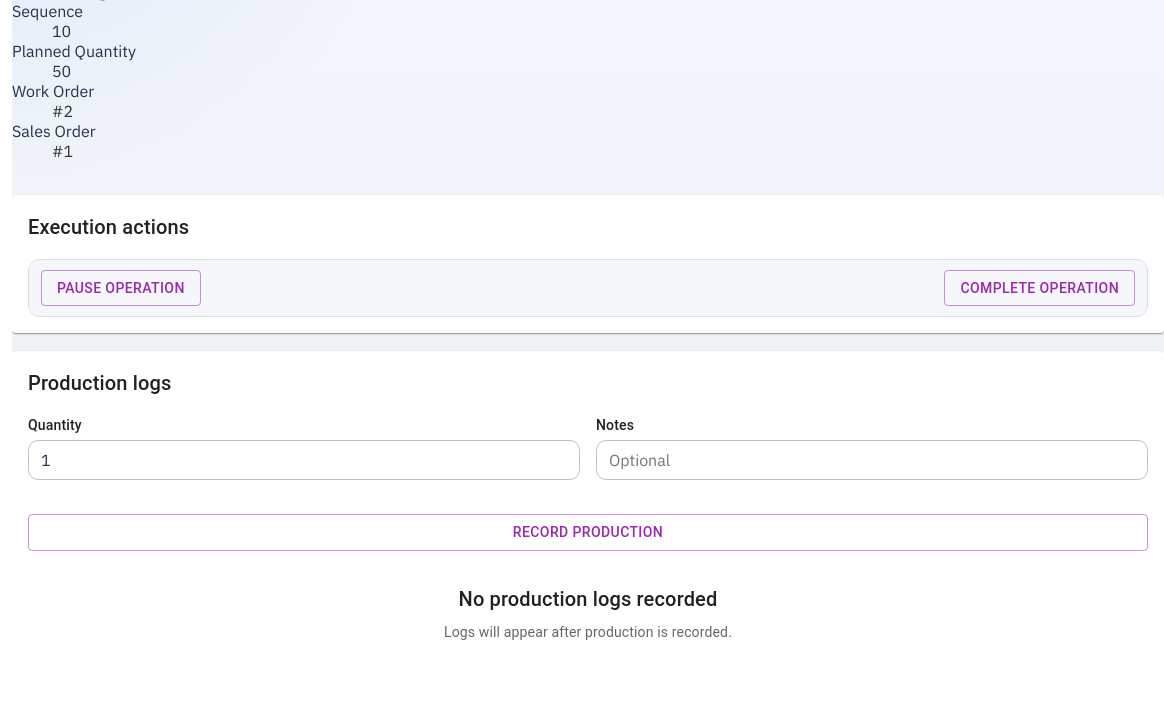
OperatorProductionScreen › submits production log action
The image size is (1164, 703).
(page scrolled)
Replace the text in the number field labelled "Quantity" with "3": (304, 460) [28,440,580,480]
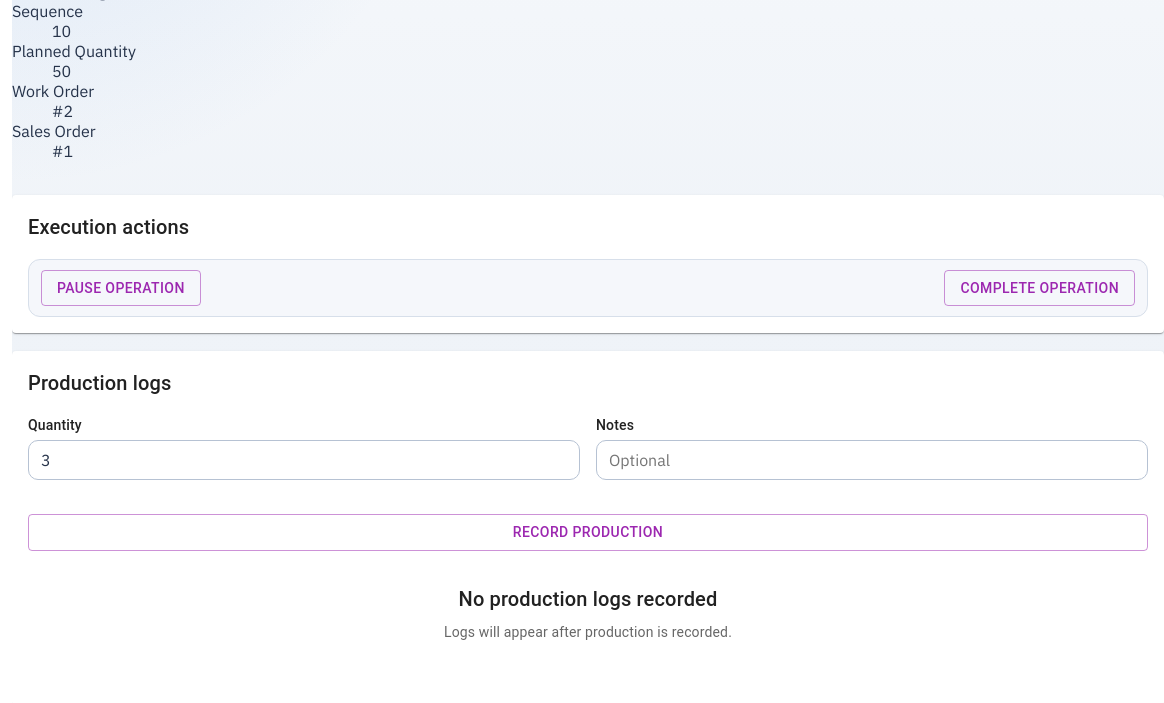
In the field labelled "Notes": (872, 460) [596,440,1148,480], type "First pass"
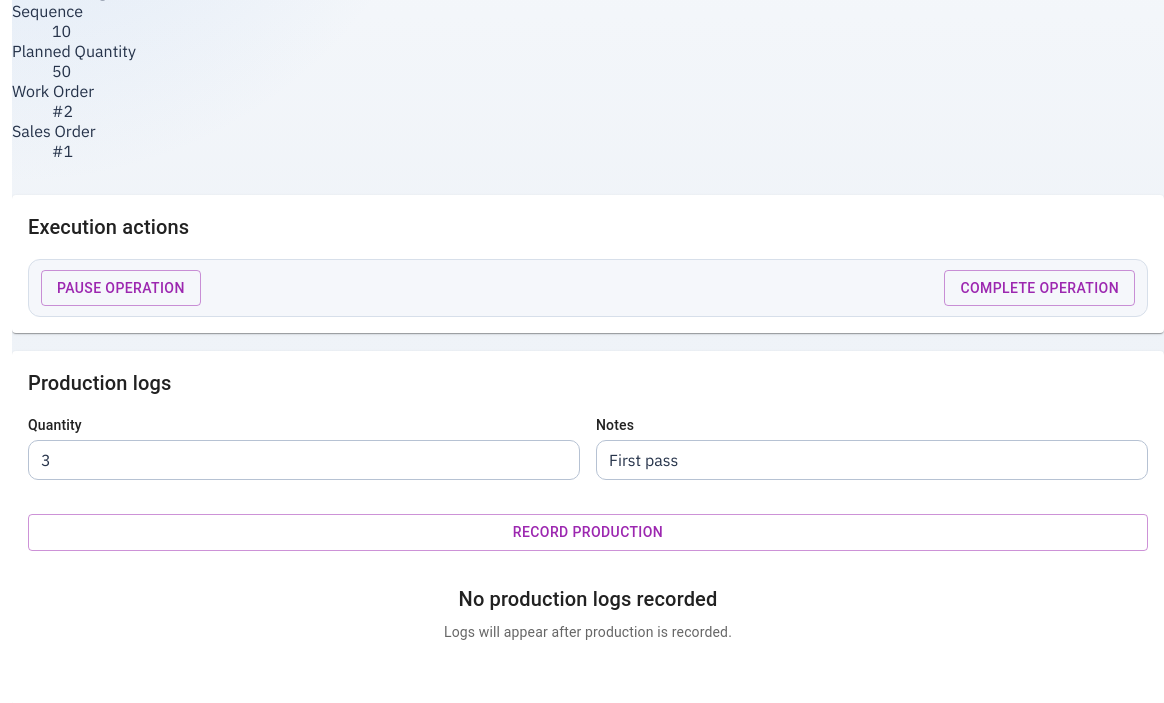
Click the button "Record production": click(588, 533) [28,514,1148,551]
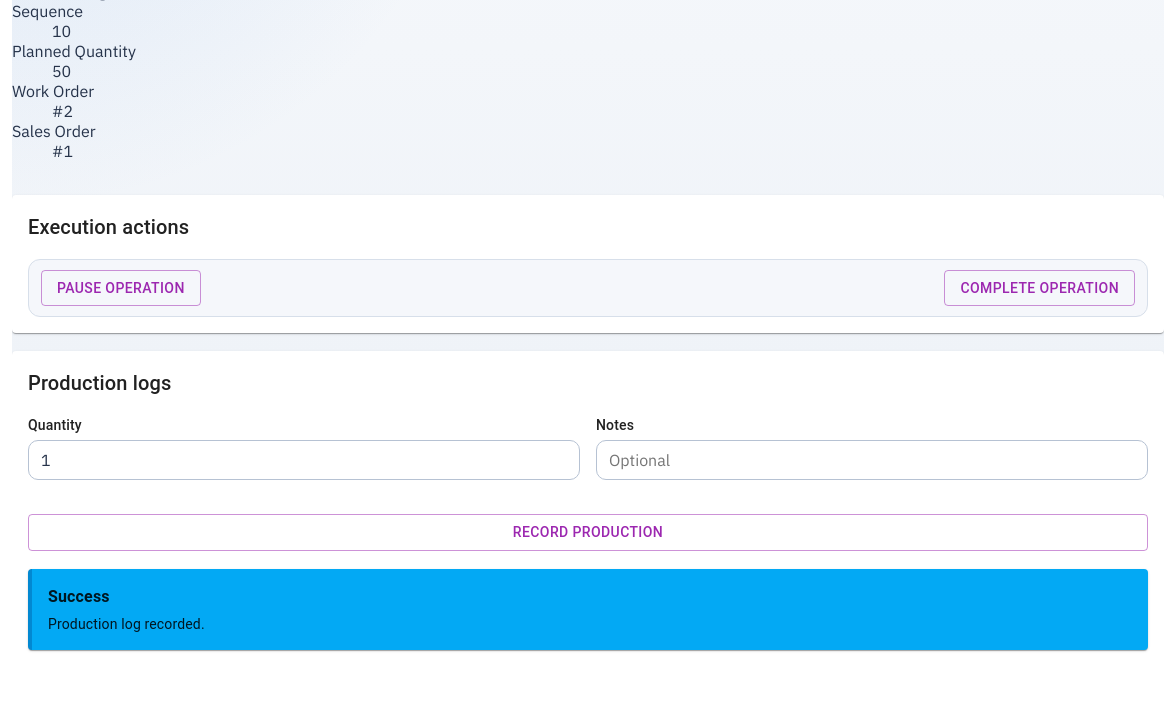
Result: the text "Production log recorded." is shown at [48,616,205,632]
